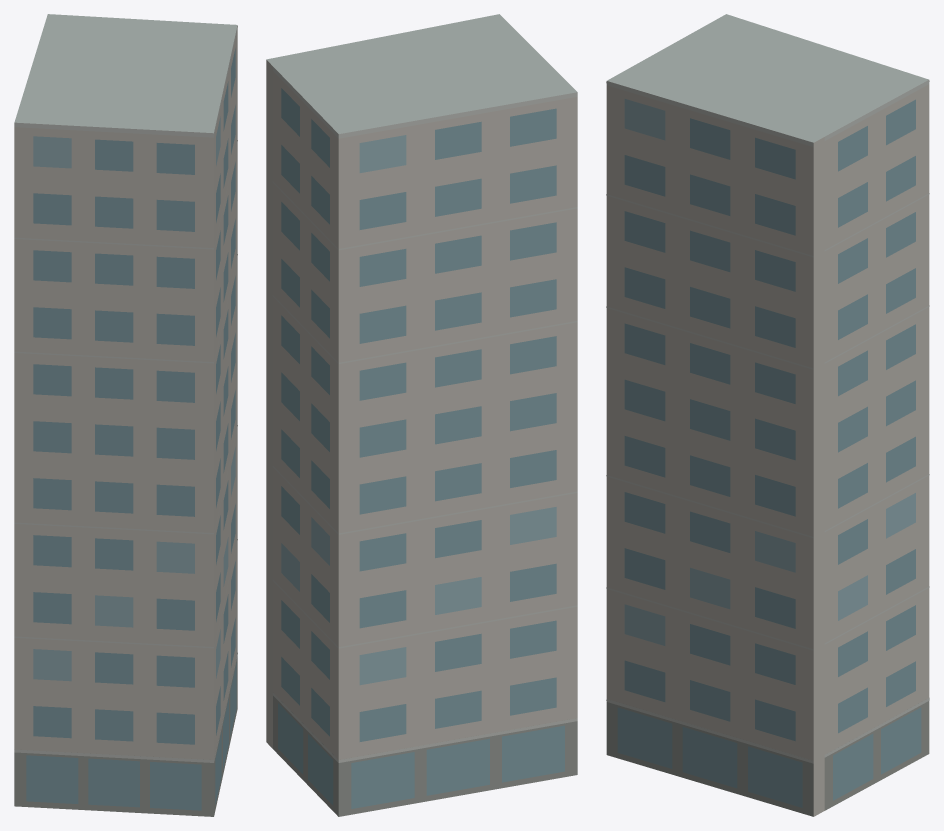
File: survey-upis-32731264.glb
The picture shows the model from 3 angles, left to right: view 1: azimuth 30°, elevation 25°; view 2: azimuth 150°, elevation 25°; view 3: azimuth 270°, elevation 25°; orthographic projection.
Visible parts, largest first — view 1: survey-upis-32731264.tmp; view 2: survey-upis-32731264.tmp; view 3: survey-upis-32731264.tmp.
Boxes of the visible parts, box(x1,y1,x2,y2) form: survey-upis-32731264.tmp: box(14, 14, 237, 816); survey-upis-32731264.tmp: box(266, 14, 577, 816); survey-upis-32731264.tmp: box(606, 14, 929, 816).
Bounding box in the file's own units: 15.01 × 36.6 × 15.9.
